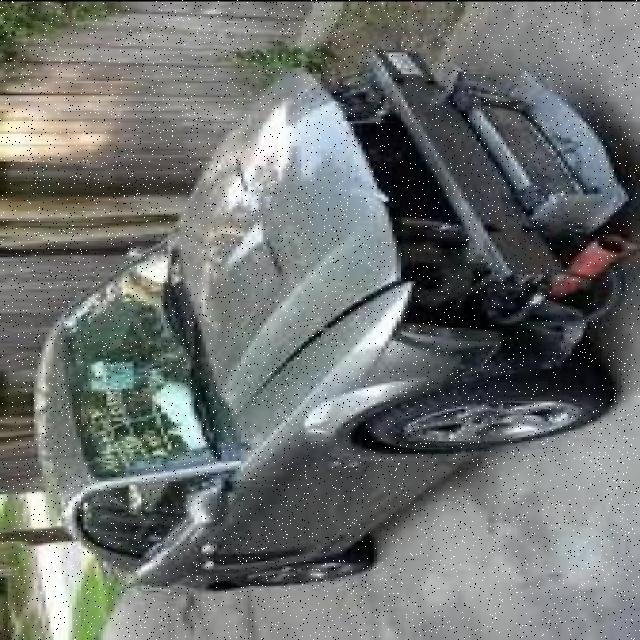damage: (292, 47, 618, 353)
